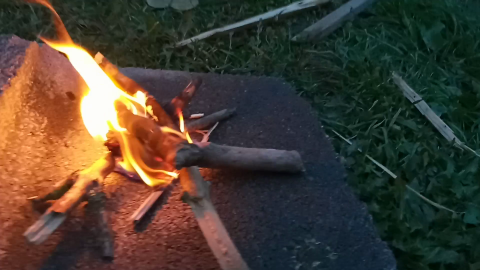fire: (24, 4, 218, 189)
